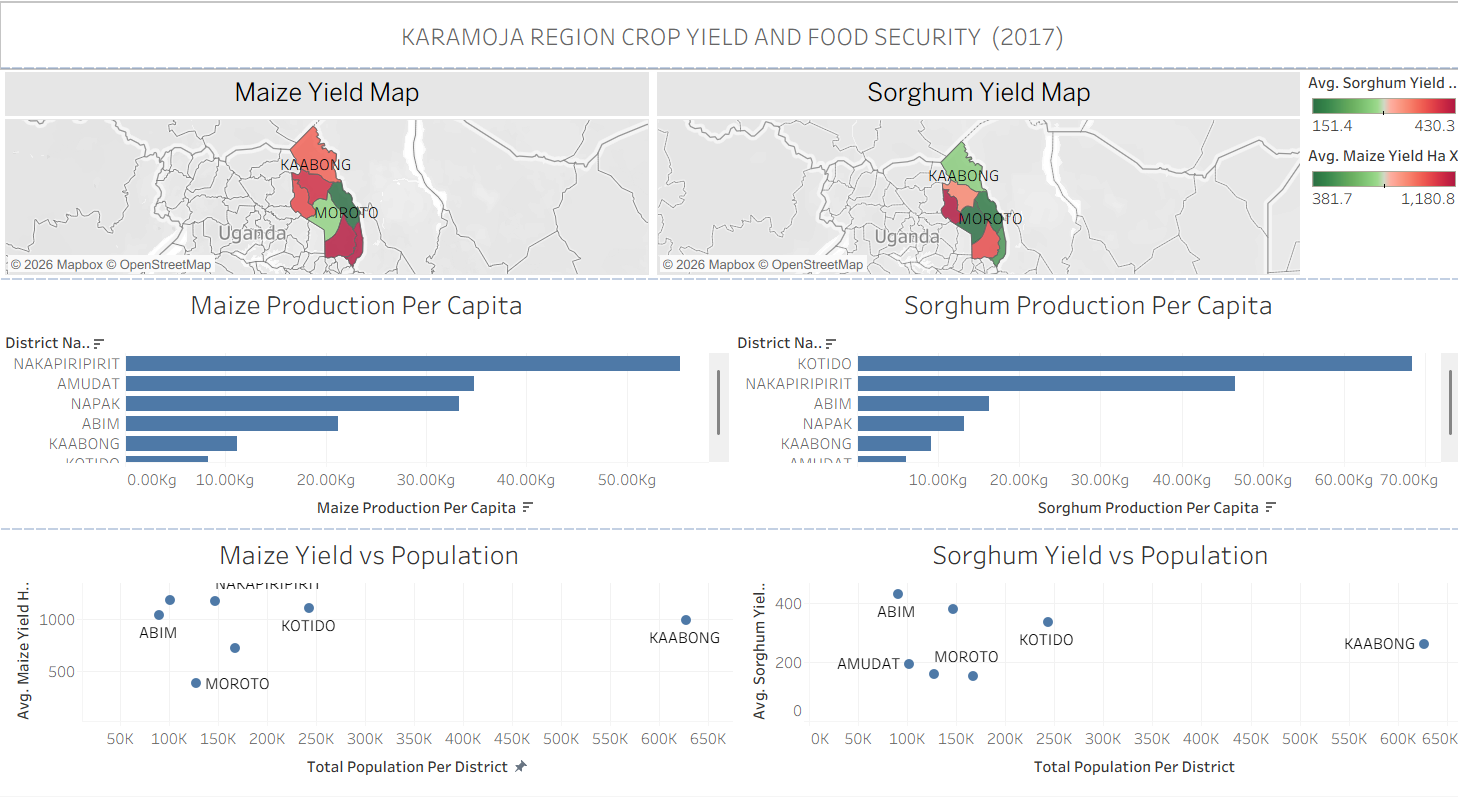

This screenshot's page, from the dashboard's own definition file:
{"tool":"tableau","page":{"name":"Karamoja Crop Yield & Food Security Dashboard (2017)","canvas":[1000,1000],"units":"permille","ordinal":0},"visuals":[{"type":"text","box":[5.4,10,989.2,81.1]},{"type":"worksheet","title":"Maize Yield Map","mark":"Multipolygon","box":[5.4,91.1,440.5,408.9]},{"type":"worksheet","title":"Sorghum Yield Map","mark":"Multipolygon","box":[445.9,91.1,440.5,408.9]},{"type":"legend","title":"Sorghum Yield Map","param":"[federated.010a5xv00affty11jvjpg0vuqyoi].[avg:s_yield_ha_x:qk]","box":[886.4,91.1,108.2,91.1]},{"type":"legend","title":"Maize Yield Map","param":"[federated.010a5xv00affty11jvjpg0vuqyoi].[avg:m_yield_ha_x:qk]","box":[886.4,182.3,108.2,91.1]},{"type":"worksheet","title":"Maize Production Per Capita","mark":"Automatic","rows":["district_name"],"cols":["Calculation_1667176183201793"],"box":[5.4,500,494.6,245]},{"type":"worksheet","title":"Sorghum Production Per Capita","mark":"Automatic","rows":["district_name"],"cols":["Calculation_1667176177963008"],"box":[500,500,494.6,245]},{"type":"worksheet","title":"Maize Yield vs Population","mark":"Circle","rows":["m_yield_ha_x"],"cols":["pop_x"],"box":[5.4,745,497.6,245]},{"type":"worksheet","title":"Sorghum Yield vs Population","mark":"Circle","rows":["s_yield_ha_x"],"cols":["pop_x"],"box":[503,745,491.5,245]}]}

Visuals, with their boxes on the dashboard's canvas, which has no fixed pixel size, in thousandths of its width and height (x1, y1, x2, y2). These are canvas units, not pixel positions in the 1458x797 screenshot, which may show the page scaled, cropped or inside an application window:
text: [5,10,995,91]
"Maize Yield Map" worksheet (Multipolygon marks): [5,91,446,500]
"Sorghum Yield Map" worksheet (Multipolygon marks): [446,91,886,500]
"Sorghum Yield Map" legend: [886,91,995,182]
"Maize Yield Map" legend: [886,182,995,273]
"Maize Production Per Capita" worksheet: [5,500,500,745]
"Sorghum Production Per Capita" worksheet: [500,500,995,745]
"Maize Yield vs Population" worksheet (Circle marks): [5,745,503,990]
"Sorghum Yield vs Population" worksheet (Circle marks): [503,745,994,990]
